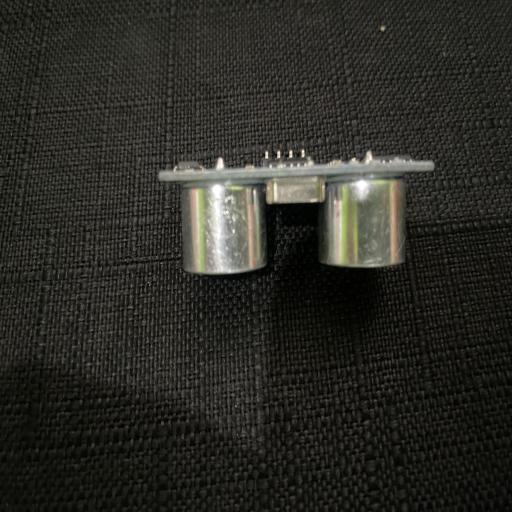Ultrasonic Sensor: (157, 146, 436, 275)
